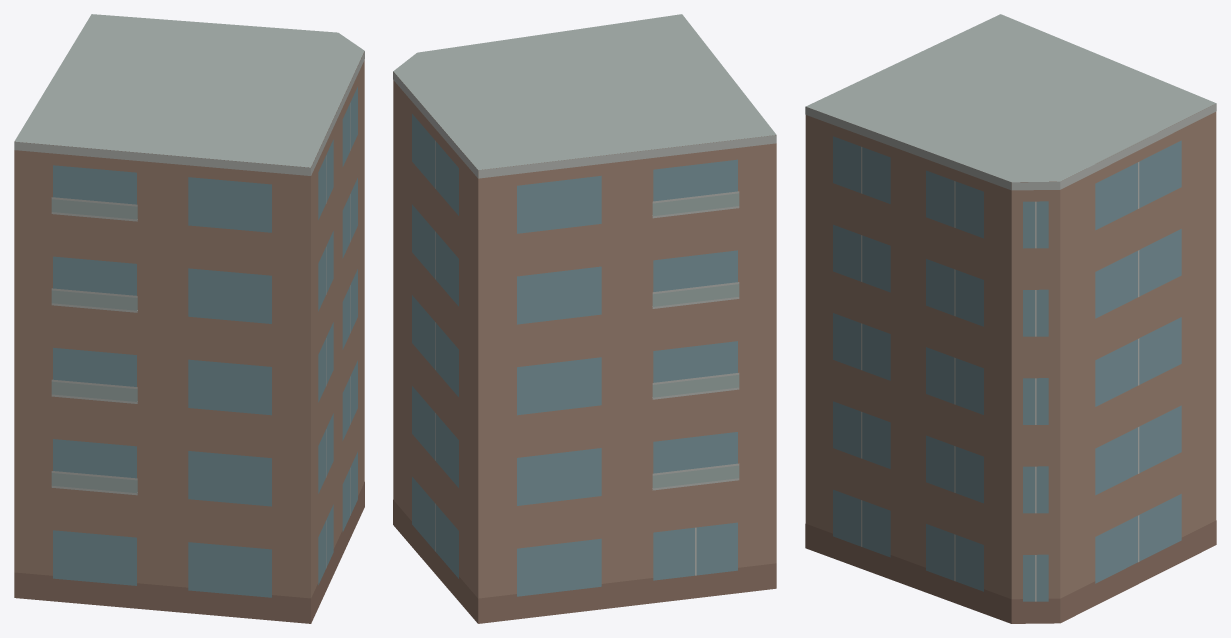
Rendered from survey-upis-32529013.glb.
3 renders of one model, left to right at view 1: azimuth 30°, elevation 25°; view 2: azimuth 150°, elevation 25°; view 3: azimuth 270°, elevation 25°, orthographic. The views are drawn at different scales.
Visible parts, largest first — view 1: survey-upis-32529013.tmp; view 2: survey-upis-32529013.tmp; view 3: survey-upis-32529013.tmp.
Boxes of the visible parts, x1,y1,x2,y2 form: survey-upis-32529013.tmp: [14, 14, 364, 623]; survey-upis-32529013.tmp: [393, 14, 776, 623]; survey-upis-32529013.tmp: [805, 14, 1216, 623].
Bounding box in the file's own units: 10.75 × 13.15 × 11.1.
